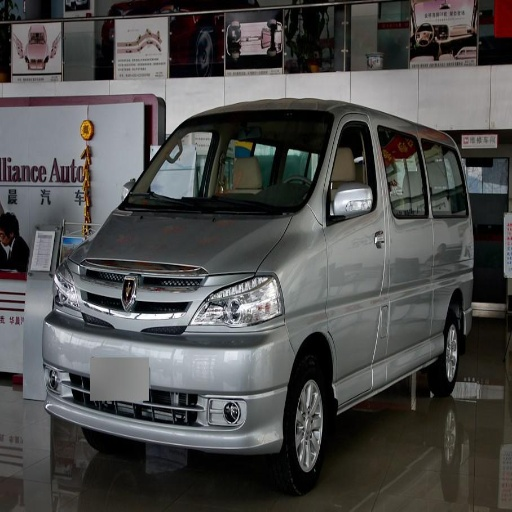front_bumper: (43, 263, 296, 449)
front_glass: (122, 116, 332, 210)
front_left_door: (324, 117, 388, 402)
trunk: (405, 221, 472, 307)
